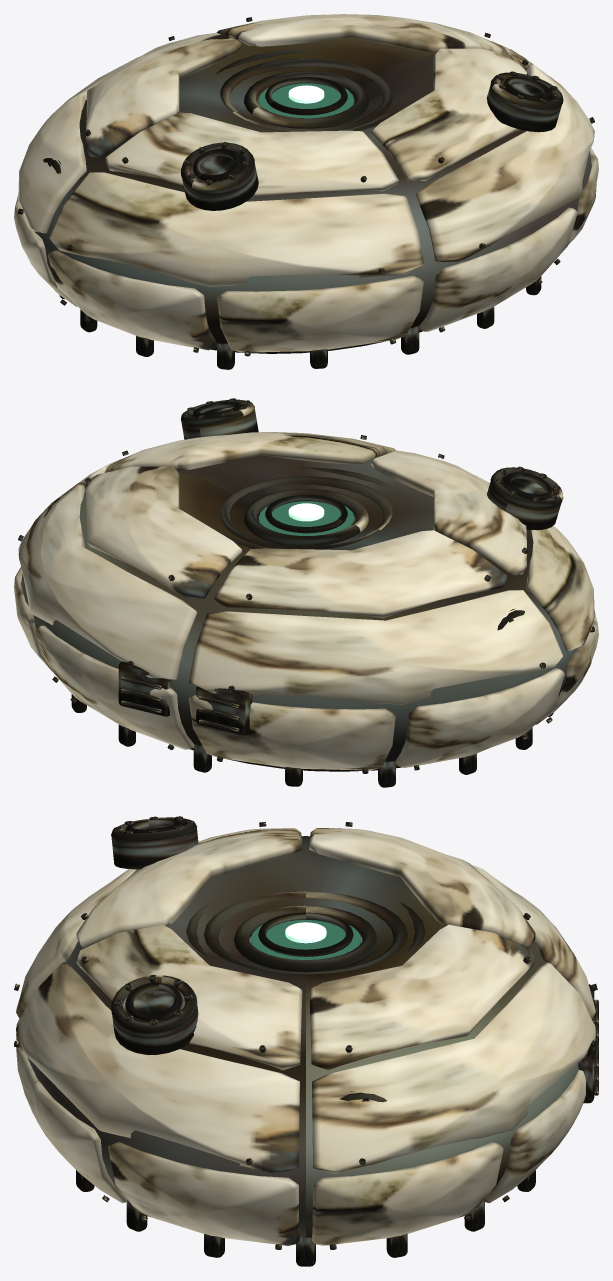
File: body-demolition-astra4-v3.glb
3 views of the same model, one above another, from view 1: azimuth 30°, elevation 25°; view 2: azimuth 150°, elevation 25°; view 3: azimuth 270°, elevation 25° (orthographic). The views are drawn at different scales.
Parts seen in each view (by area): view 1: demolition-detail-ceramic, demolition-steel, demolition-detail-brass, demolition-detail-metal, demolition-detail-glass, demolition-detail-light; view 2: demolition-detail-ceramic, demolition-steel, demolition-detail-metal, demolition-detail-brass, demolition-detail-glass, demolition-detail-light; view 3: demolition-detail-ceramic, demolition-steel, demolition-detail-brass, demolition-detail-metal, demolition-detail-glass, demolition-detail-light.
Boxes of the visible parts, x1,y1,x2,y2 form: demolition-detail-ceramic: [14, 14, 598, 352]; demolition-steel: [34, 37, 591, 353]; demolition-detail-brass: [18, 17, 594, 356]; demolition-detail-metal: [58, 76, 561, 369]; demolition-detail-glass: [258, 83, 354, 118]; demolition-detail-light: [288, 85, 324, 103]; demolition-detail-ceramic: [14, 432, 598, 770]; demolition-steel: [21, 455, 577, 771]; demolition-detail-metal: [59, 401, 561, 787]; demolition-detail-brass: [18, 398, 594, 773]; demolition-detail-glass: [258, 501, 354, 535]; demolition-detail-light: [288, 503, 324, 521]; demolition-detail-ceramic: [16, 828, 595, 1245]; demolition-steel: [27, 836, 578, 1237]; demolition-detail-brass: [14, 816, 598, 1249]; demolition-detail-metal: [76, 819, 594, 1266]; demolition-detail-glass: [251, 920, 360, 959]; demolition-detail-light: [285, 922, 326, 943].
Size of the model in its own units: 1.63 by 0.7211 by 1.36.
6 materials, 4 textured.
